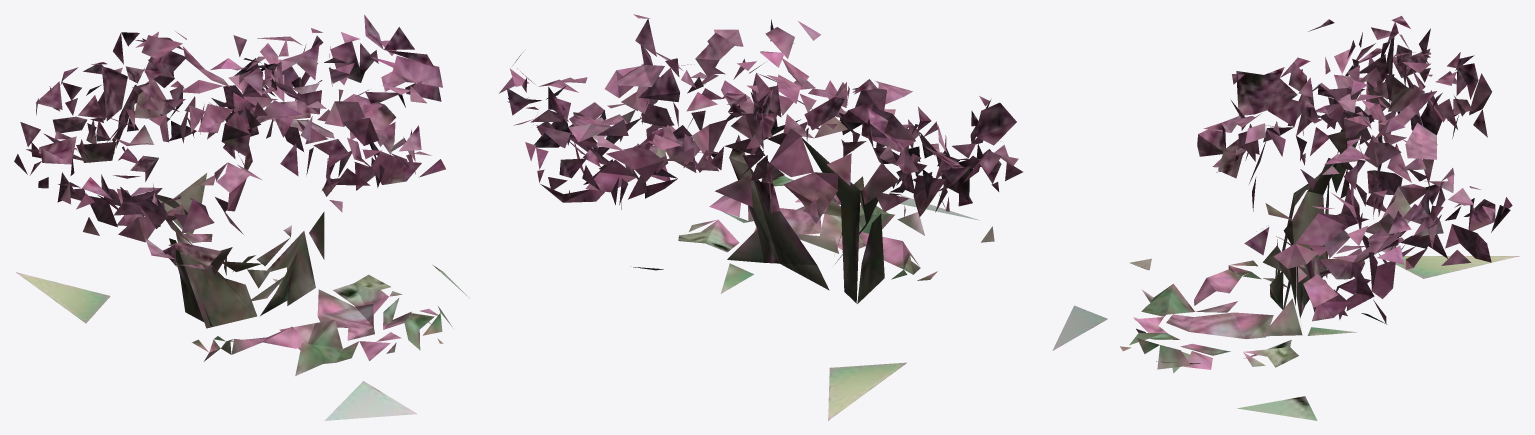
The model's file is cherry_tree.glb.
The picture shows the model from 3 angles, left to right: view 1: azimuth 30°, elevation 25°; view 2: azimuth 150°, elevation 25°; view 3: azimuth 270°, elevation 25°; orthographic projection. The views are drawn at different scales.
Visible parts, largest first — view 1: geometry_0; view 2: geometry_0; view 3: geometry_0.
Part boxes in pixels (x1,y1,x2,y2): geometry_0: [14, 14, 469, 420]; geometry_0: [499, 14, 1022, 420]; geometry_0: [1052, 16, 1519, 420].
Size of the model in its own units: 0.8626 by 0.5235 by 0.8363.
Materials: 1 (1 with a texture image).
